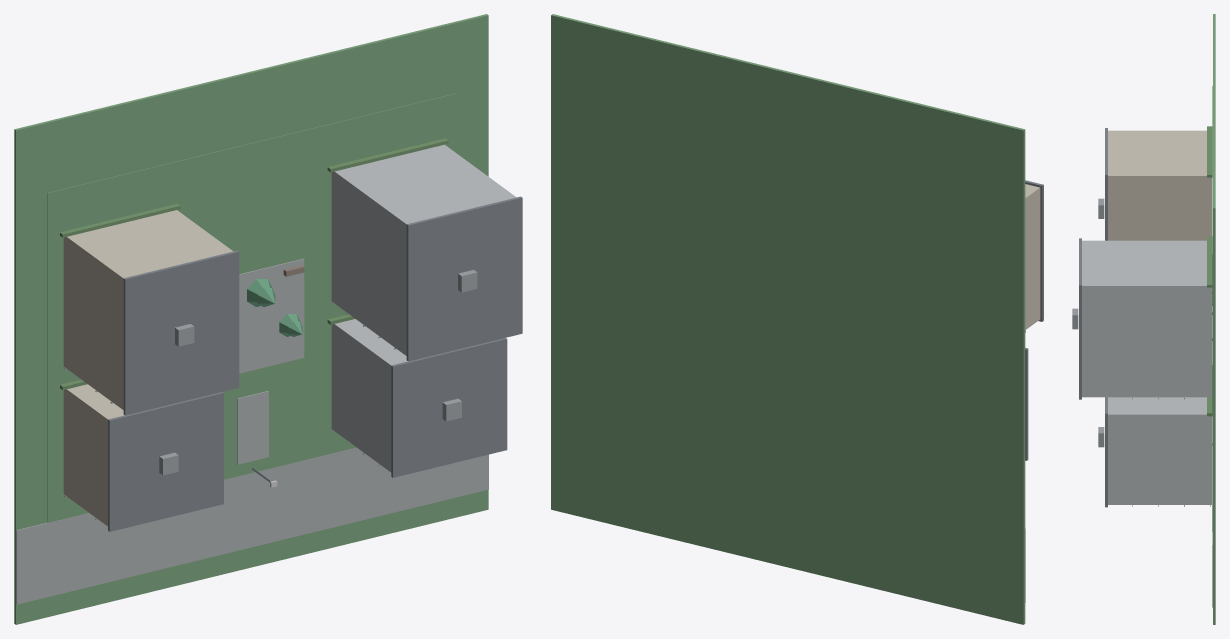
File: city_block_2.glb
3 views of the same model, side by side, from view 1: azimuth 30°, elevation 25°; view 2: azimuth 150°, elevation 25°; view 3: azimuth 270°, elevation 25° (orthographic). The views are drawn at different scales.
Parts seen in each view (by area): view 1: grass, roof, paving, concrete, cream, hedge, stone, tree; view 2: grass, cream, roof; view 3: concrete, cream, grass, roof, hedge, stone.
Part boxes in pixels (<box>): grass: <box>14,14,488,624</box>; roof: <box>108,196,522,531</box>; paving: <box>16,258,488,604</box>; concrete: <box>331,144,516,472</box>; cream: <box>63,210,233,526</box>; hedge: <box>60,138,448,389</box>; stone: <box>64,270,477,519</box>; tree: <box>247,279,302,336</box>; grass: <box>551,14,1025,624</box>; cream: <box>1025,184,1040,329</box>; roof: <box>1025,180,1043,460</box>; concrete: <box>1082,240,1211,504</box>; cream: <box>1108,130,1211,240</box>; grass: <box>1212,14,1215,624</box>; roof: <box>1079,128,1107,507</box>; hedge: <box>1207,126,1212,416</box>; stone: <box>1072,198,1210,506</box>.
Size of the model in its own units: 60 by 60 by 18.73.
